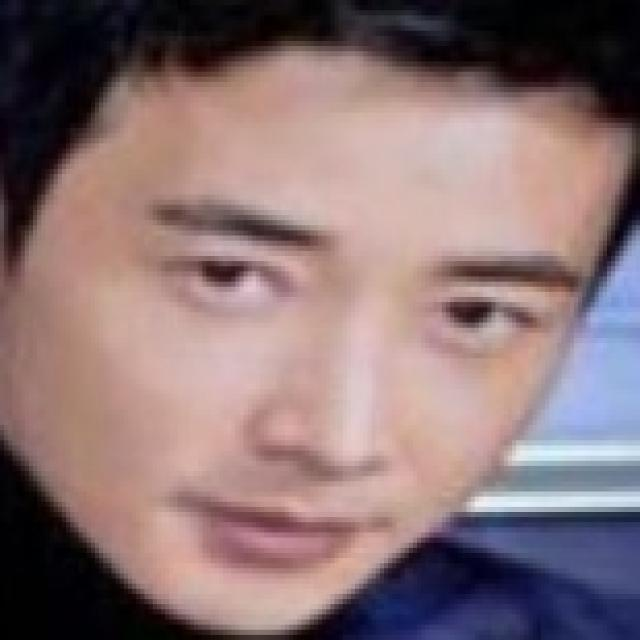no_mask: (9, 39, 634, 624)
